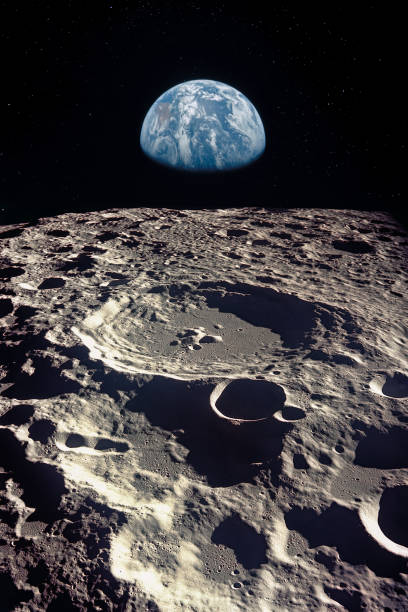crater: (91, 275, 329, 371), (205, 378, 285, 423)
